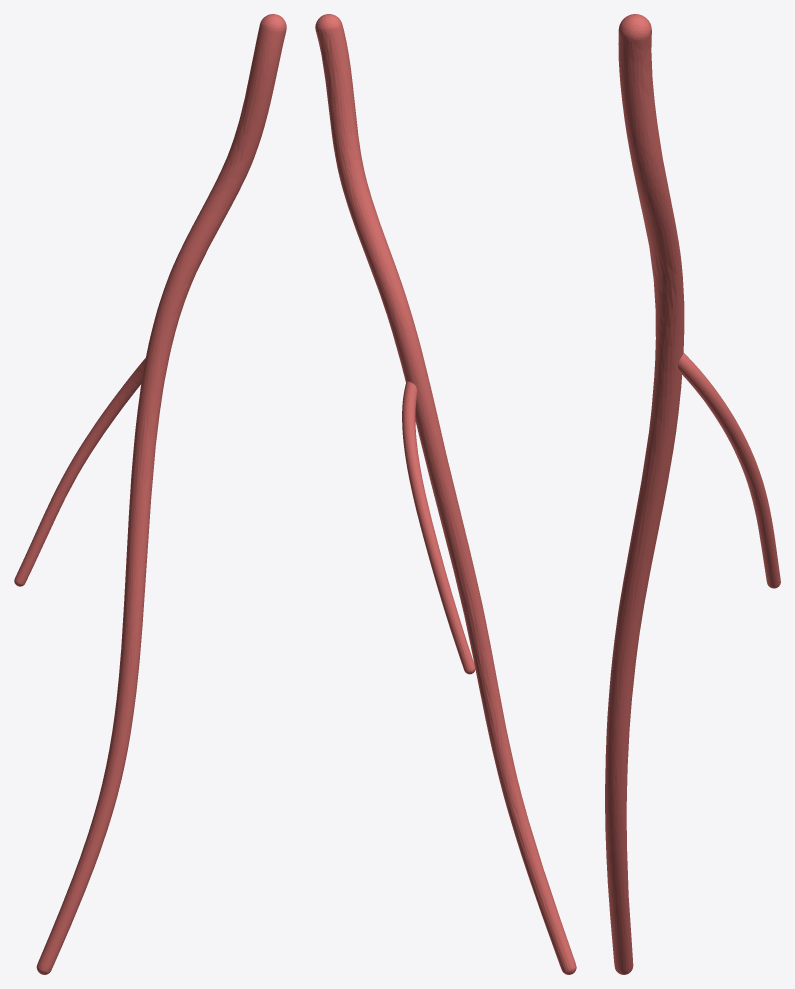
The model's file is arm-artery.glb.
3 views of the same model, side by side, from view 1: azimuth 30°, elevation 25°; view 2: azimuth 150°, elevation 25°; view 3: azimuth 270°, elevation 25° (orthographic). The views are drawn at different scales.
Parts seen in each view (by area): view 1: brachial-artery__BP6020, profunda-brachii-artery__BP6284; view 2: brachial-artery__BP6020, profunda-brachii-artery__BP6284; view 3: brachial-artery__BP6020, profunda-brachii-artery__BP6284.
Part boxes in pixels (<box>): brachial-artery__BP6020: <box>36,14,286,974</box>; profunda-brachii-artery__BP6284: <box>14,358,145,586</box>; brachial-artery__BP6020: <box>315,14,576,974</box>; profunda-brachii-artery__BP6284: <box>402,381,475,674</box>; brachial-artery__BP6020: <box>605,14,684,974</box>; profunda-brachii-artery__BP6284: <box>678,353,780,588</box>.
Bounding box in the file's own units: 0.7443 × 2.54 × 0.3686.
